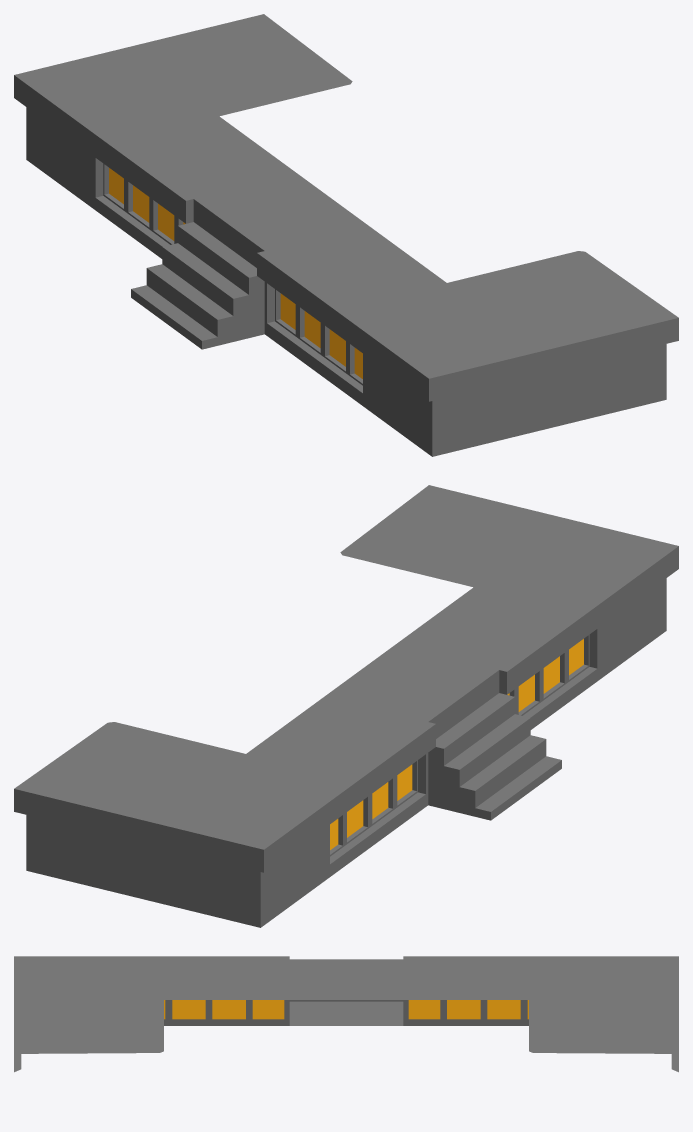
File: O10_Socle_Avance_Maison.fbx
The picture shows the model from 3 angles, top to bottom: view 1: azimuth 30°, elevation 25°; view 2: azimuth 150°, elevation 25°; view 3: azimuth 270°, elevation 25°; orthographic projection. The views are drawn at different scales.
Visible parts, largest first — view 1: O_Socle_Avance_Maison; view 2: O_Socle_Avance_Maison; view 3: O_Socle_Avance_Maison.
Boxes of the visible parts, bbox=[...] form: O_Socle_Avance_Maison: bbox=[14, 14, 678, 456]; O_Socle_Avance_Maison: bbox=[14, 485, 678, 927]; O_Socle_Avance_Maison: bbox=[14, 956, 678, 1072].
Bounding box in the file's own units: 3.9 × 9.2 × 1.02.
